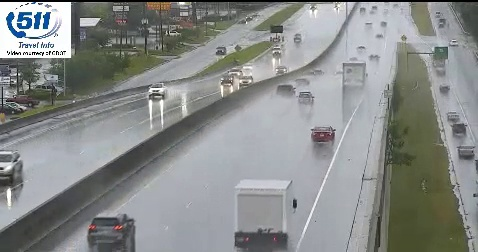car: (89, 214, 136, 245), (312, 126, 334, 142), (297, 92, 314, 105)
small-truck: (233, 179, 294, 248), (341, 61, 367, 90)
